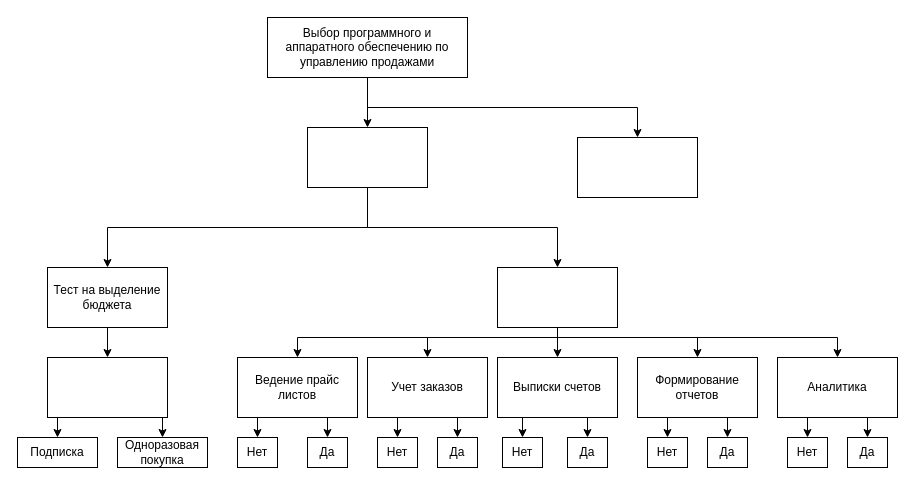
This 915x485 diagram has some shape labels left out. Here are the shapes that lost their labels. From the top down, the centre of each, then its label:
At point (367, 157): "Обработка результатов теста".
At point (637, 167): "Выбор конкретной системы".
At point (557, 297): "Тест на выбор функций".
At point (107, 387): "Способ распространения".
